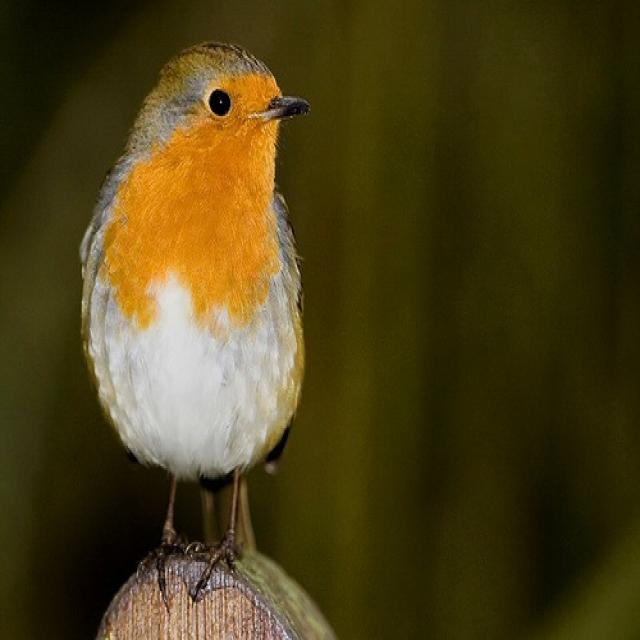bird: (77, 38, 308, 607)
